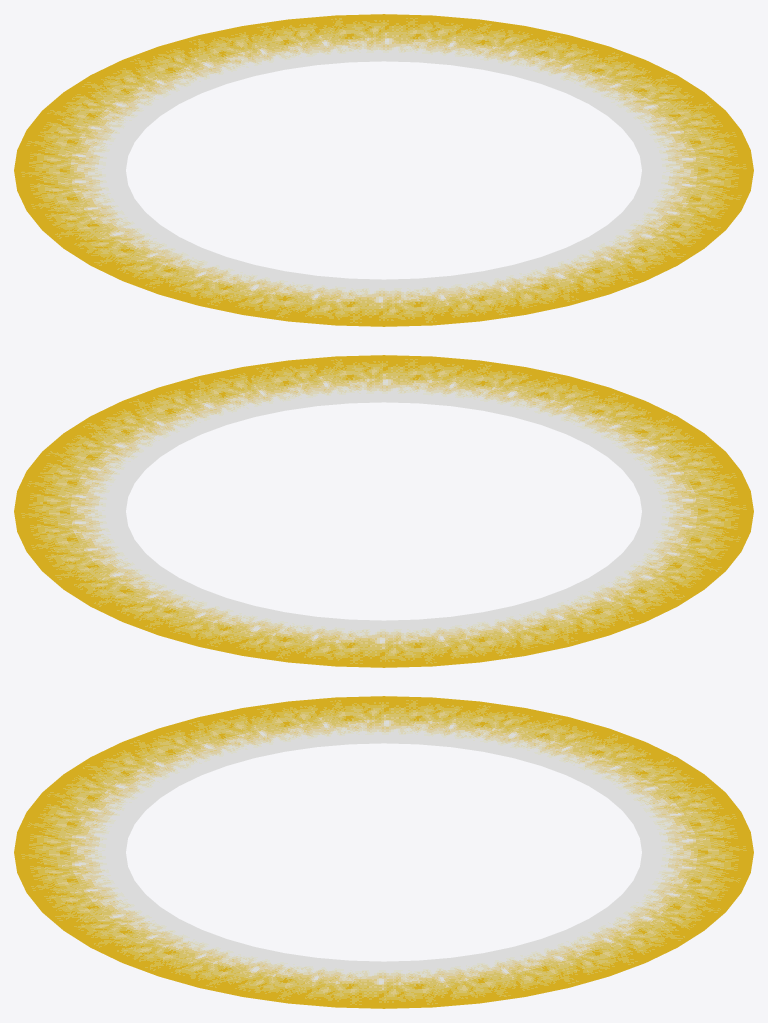
File: kpa_shwave.obj
3 renders of one model, top to bottom at view 1: azimuth 30°, elevation 25°; view 2: azimuth 150°, elevation 25°; view 3: azimuth 270°, elevation 25°, orthographic.
Parts seen in each view (by area): view 1: pCylinder1; view 2: pCylinder1; view 3: pCylinder1.
Boxes of the visible parts, <box> form: pCylinder1: <box>14,14,753,326</box>; pCylinder1: <box>14,355,753,667</box>; pCylinder1: <box>14,696,753,1008</box>.
Bounding box in the file's own units: 8.53 × 0 × 8.53.
Materials: 1 (1 with a texture image).
